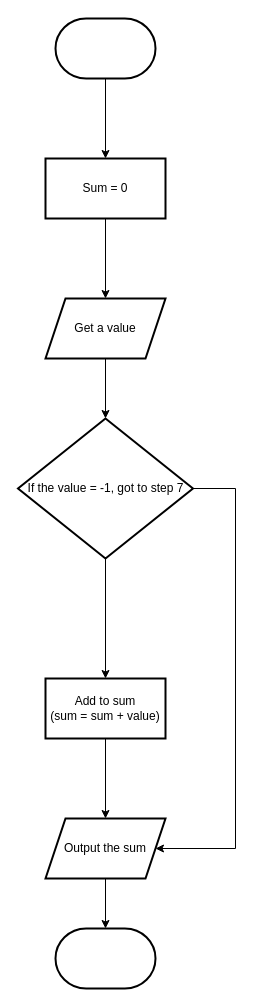
Image size: 261x1006. Some labels were removed from this diagram. Each missing label, with the box of its shape:
Start: (54, 17, 156, 79)
Stop: (54, 927, 156, 989)
